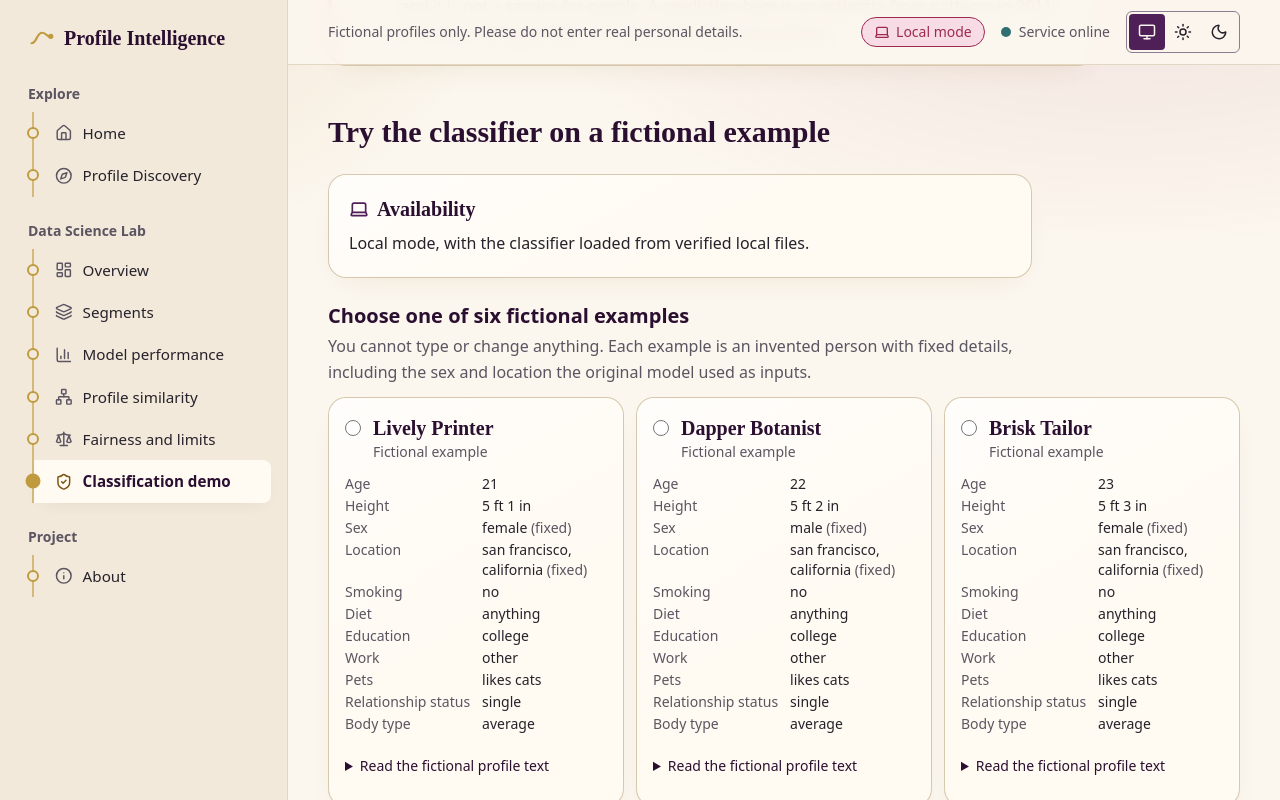
Test case: the demonstration in local mode › explains a failed run
(page scrolled)
Step 1. Click the radio button labelled "Brisk Tailor Fictional example" → (969, 428), box x1=961 y1=420 x2=977 y2=436
(page scrolled)
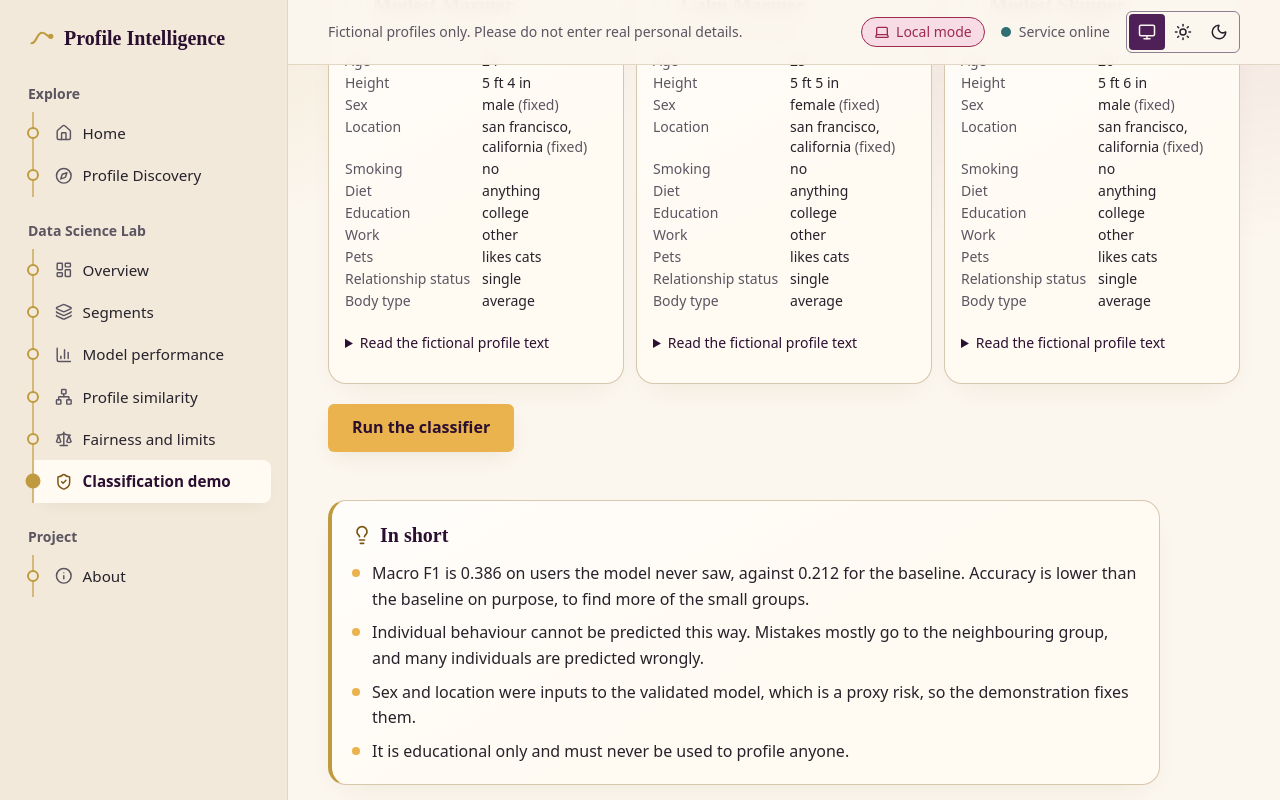
Step 2. Click the button "Run the classifier" → (421, 428), box x1=328 y1=404 x2=514 y2=452
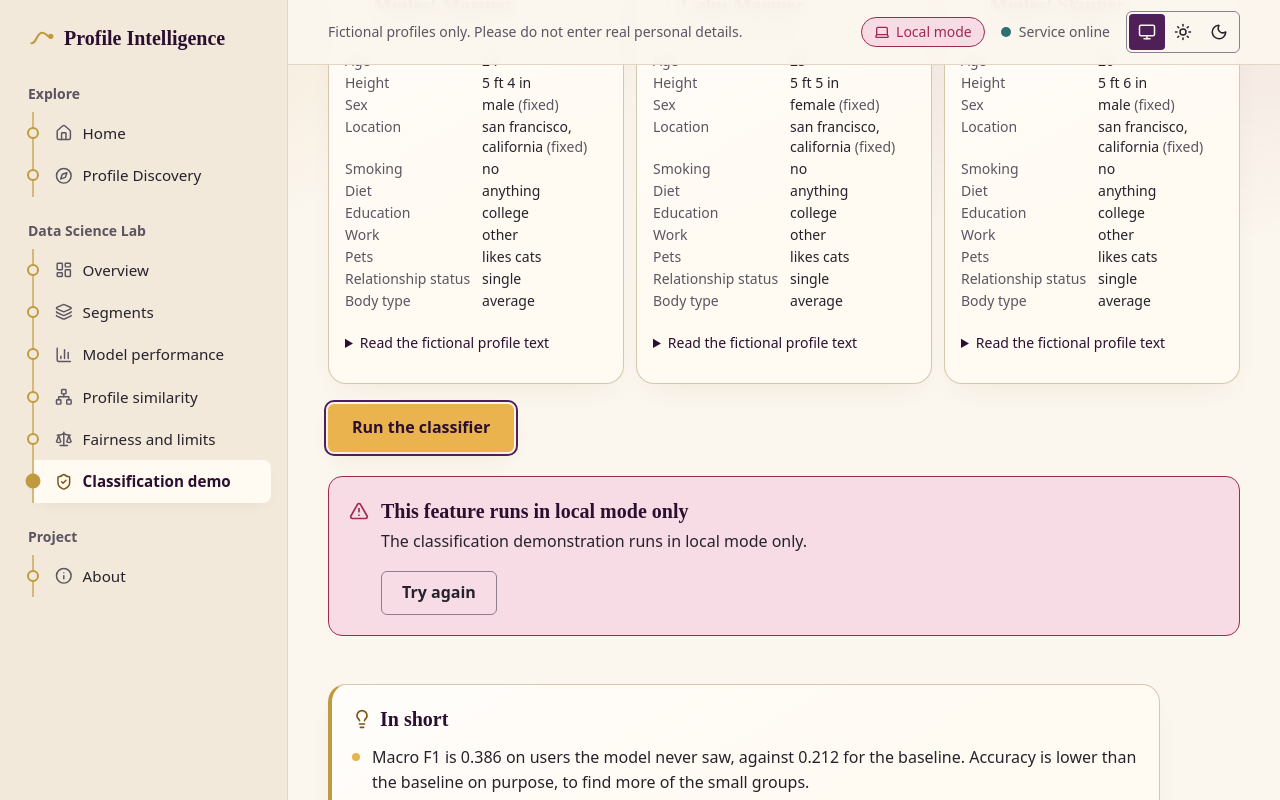
expect the message that starts with "This feature runs in local mode only" is shown: met, box x1=381 y1=500 x2=688 y2=522
